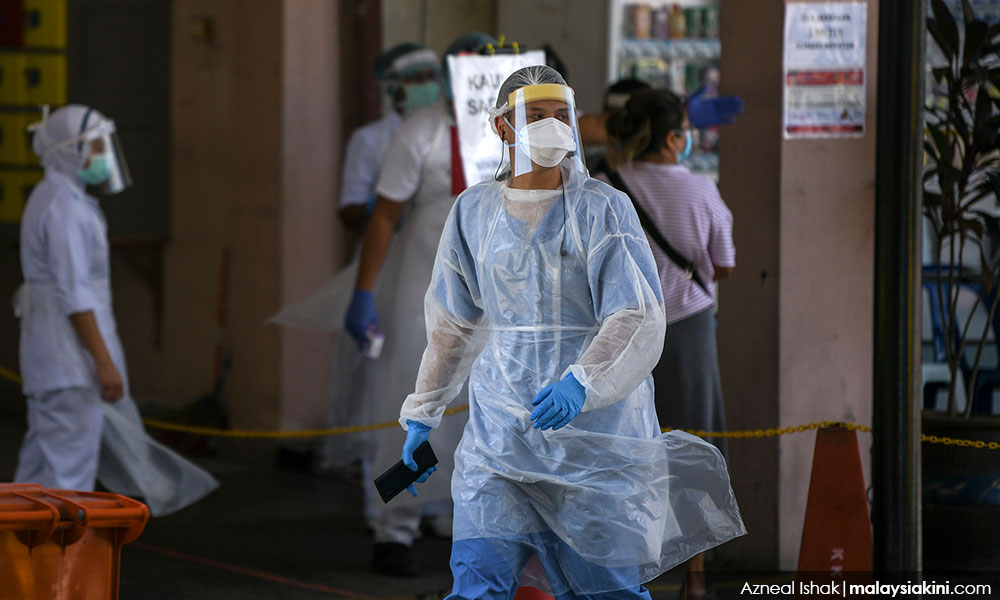Coverall: (439, 182, 660, 600)
Gloves: (397, 413, 440, 500), (529, 374, 586, 434), (340, 290, 382, 353)
with_mask: (523, 106, 568, 170)
